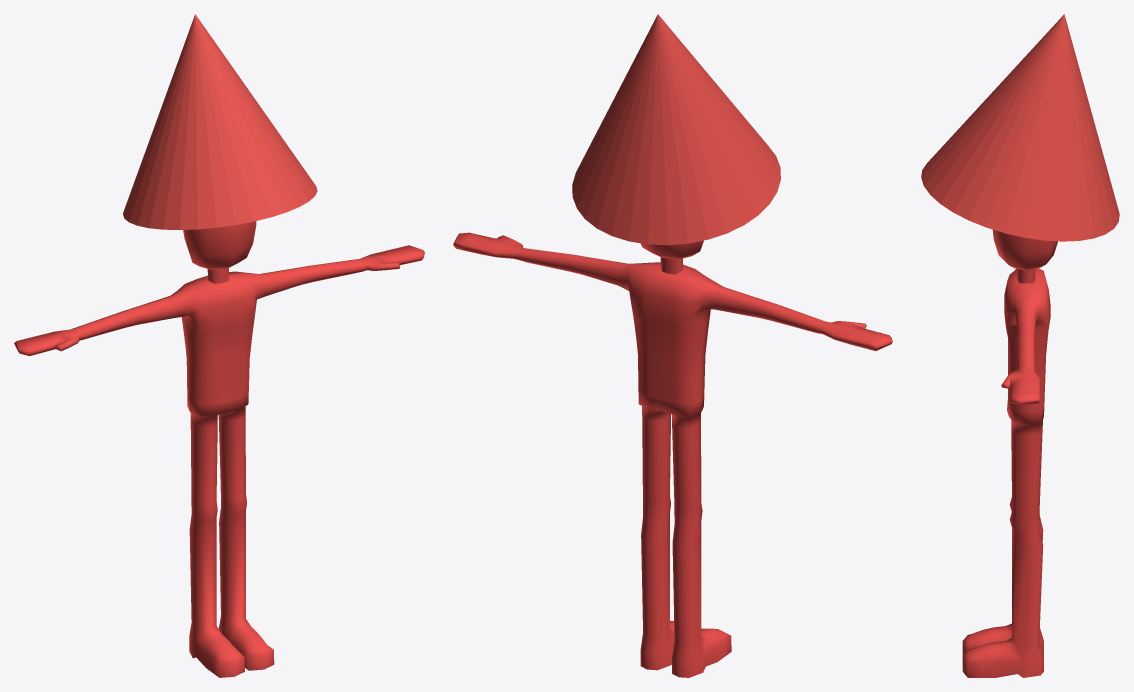
3 renders of one model, left to right at view 1: azimuth 30°, elevation 25°; view 2: azimuth 150°, elevation 25°; view 3: azimuth 270°, elevation 25°, orthographic. The views are drawn at different scales.
Parts seen in each view (by area): view 1: Cube, Cone; view 2: Cube, Cone; view 3: Cone, Cube.
Part boxes in pixels (bbox=[...]): Cube: bbox=[14, 221, 424, 677]; Cone: bbox=[123, 14, 317, 229]; Cube: bbox=[453, 232, 892, 677]; Cone: bbox=[572, 14, 780, 245]; Cone: bbox=[921, 14, 1119, 241]; Cube: bbox=[962, 229, 1057, 677].
Size of the model in its own units: 186 by 273 by 76.02.
